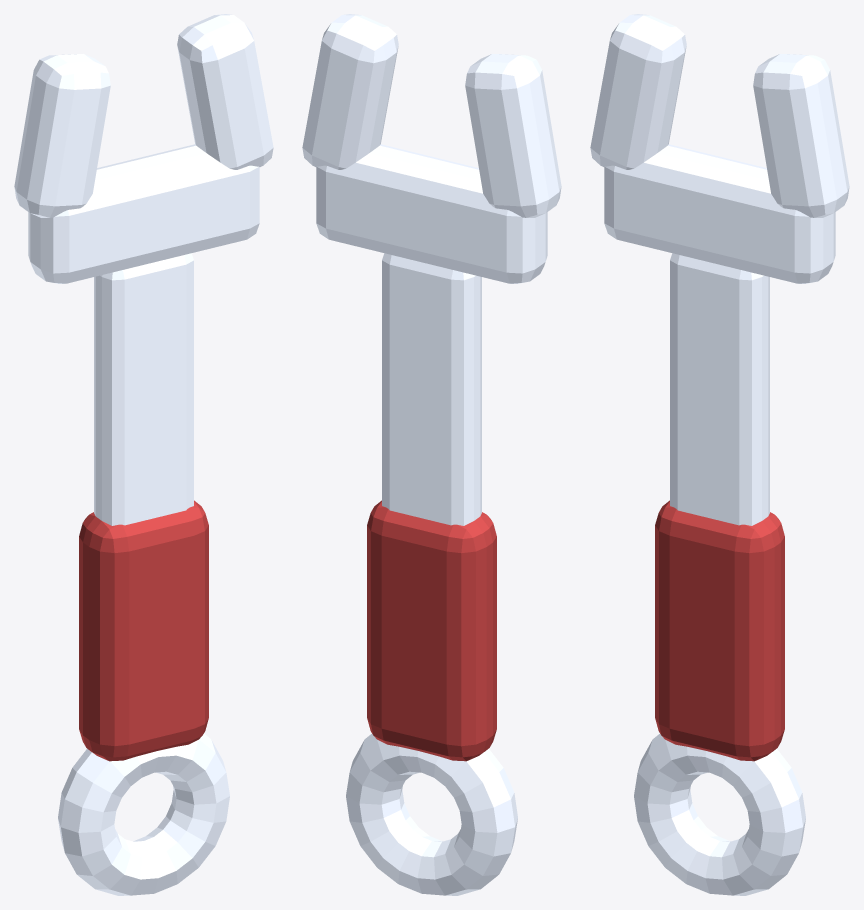
Rendered from Refaccion_Llave.glb.
The picture shows the model from 3 angles, left to right: view 1: azimuth 30°, elevation 25°; view 2: azimuth 150°, elevation 25°; view 3: azimuth 330°, elevation 25°; orthographic projection.
Visible parts, largest first — view 1: Refaccion_Llave; view 2: Refaccion_Llave; view 3: Refaccion_Llave.
Part boxes in pixels (<box>): Refaccion_Llave: <box>14,14,273,895</box>; Refaccion_Llave: <box>302,14,561,895</box>; Refaccion_Llave: <box>590,14,849,895</box>.
Size of the model in its own units: 0.1352 by 0.4517 by 0.034.
